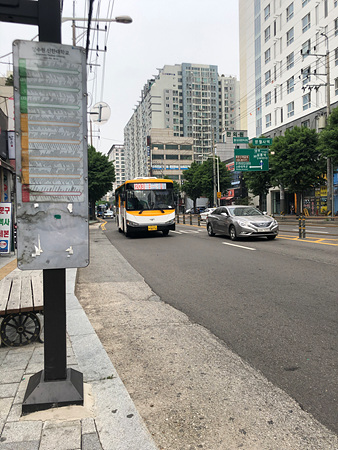bnum: (134, 182, 144, 188)
